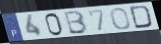0: (44, 12, 65, 37)
4: (25, 13, 44, 39)
7: (87, 9, 106, 32)
B: (63, 10, 89, 35)
D: (129, 4, 154, 30)
O: (109, 7, 132, 31)
